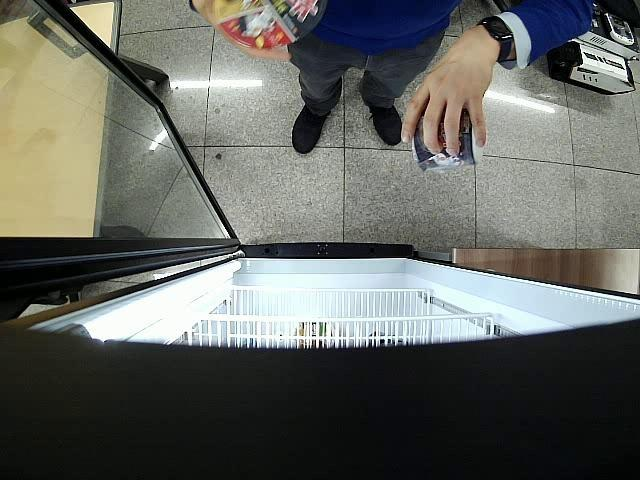07_buldak_L: (215, 0, 326, 44), (412, 108, 484, 171)
